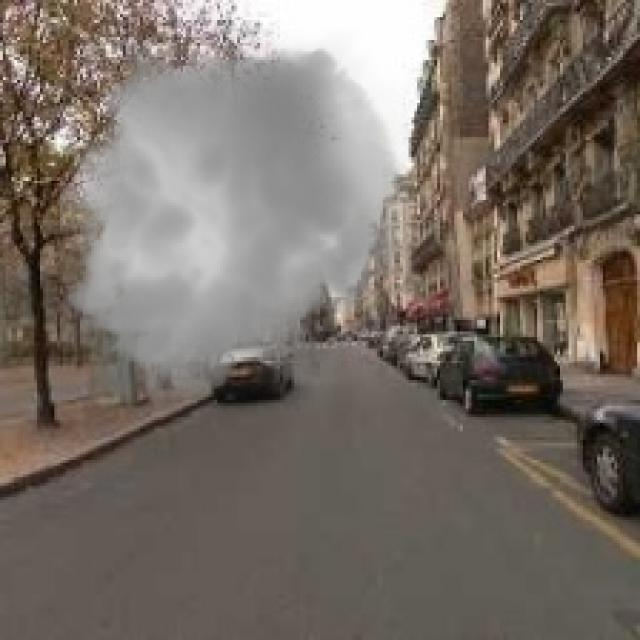smoke: (43, 29, 420, 414)
